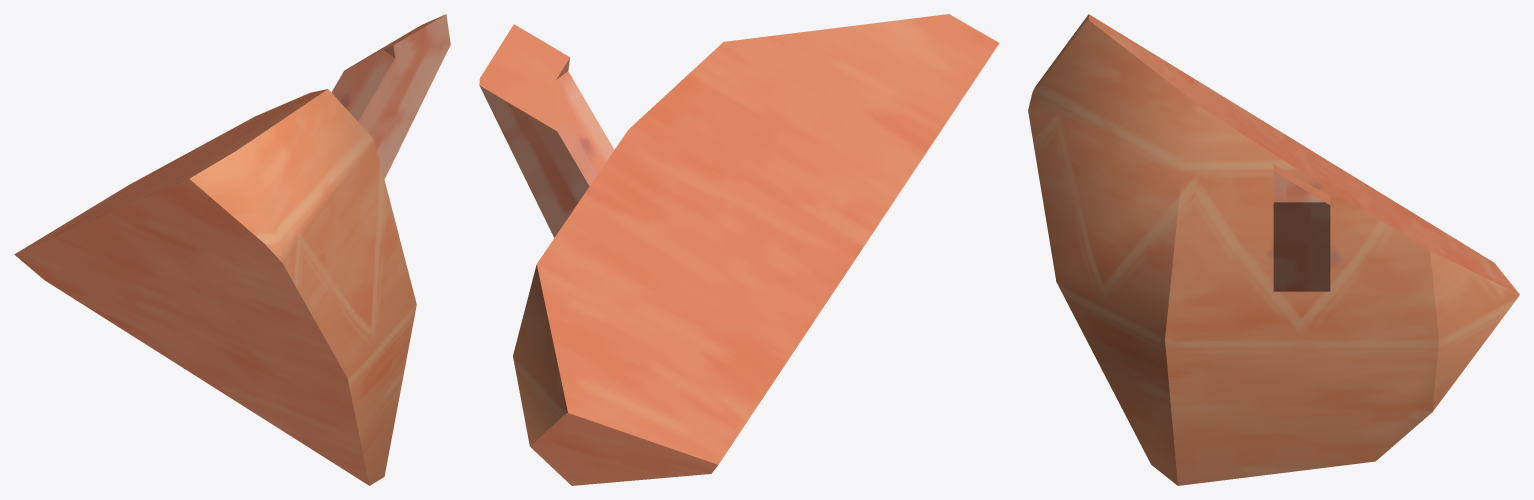
Rendered from pot_tall_s04.fbx.
3 views of the same model, side by side, from view 1: azimuth 30°, elevation 25°; view 2: azimuth 150°, elevation 25°; view 3: azimuth 270°, elevation 25° (orthographic). The views are drawn at different scales.
Parts seen in each view (by area): view 1: pot_tall_s04; view 2: pot_tall_s04; view 3: pot_tall_s04.
Part boxes in pixels (x1=…): pot_tall_s04: x1=14, y1=14, x2=450, y2=485; pot_tall_s04: x1=479, y1=14, x2=999, y2=485; pot_tall_s04: x1=1028, y1=14, x2=1519, y2=485.
Bounding box in the file's own units: 1.37 × 1.48 × 1.74.
